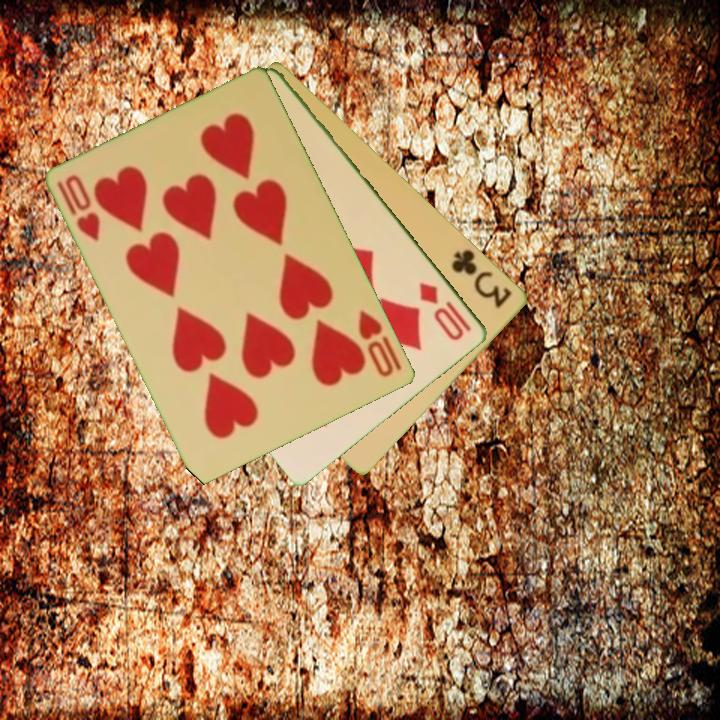10d: (416, 279, 475, 344)
10h: (355, 307, 406, 380), (53, 171, 104, 244)
3c: (448, 245, 516, 311)
